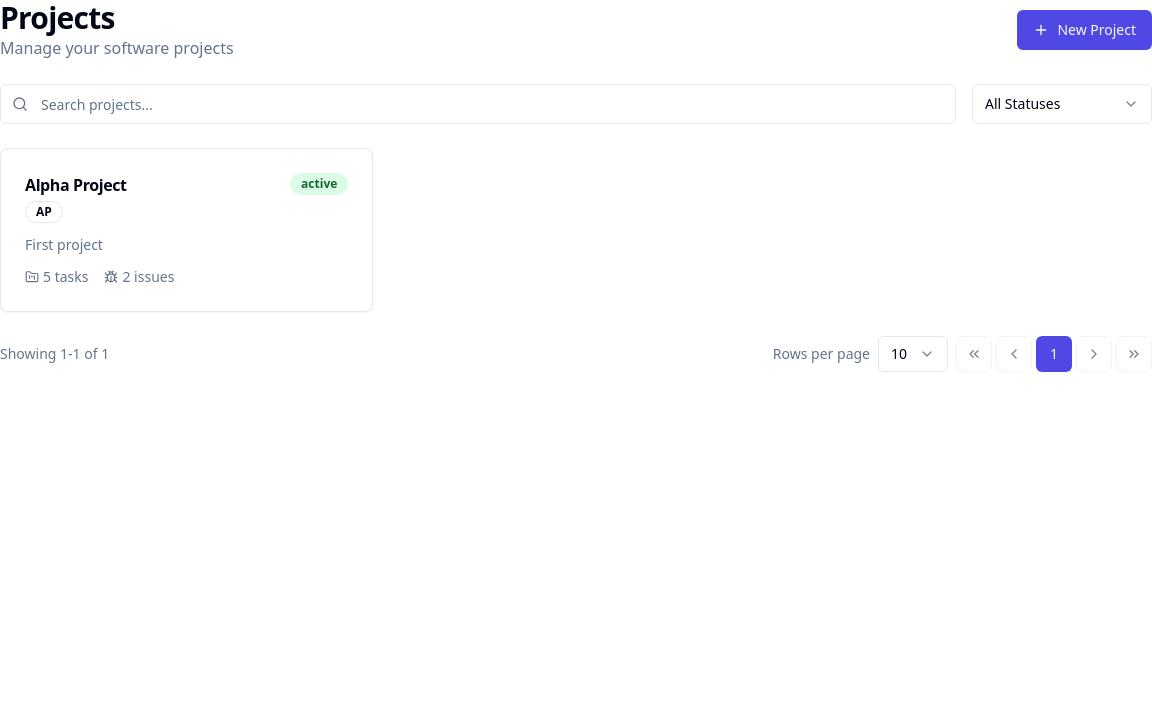
Test: ProjectsPage › should close dialog when Cancel is clicked
The image size is (1152, 720).
Expected: the heading "Alpha Project" is shown, left=25, top=173, right=127, bottom=197
What coordinates should you click on to do the following:
click the button "New Project"
I would click on:
 (1085, 30)
Its box is left=1017, top=10, right=1151, bottom=50.
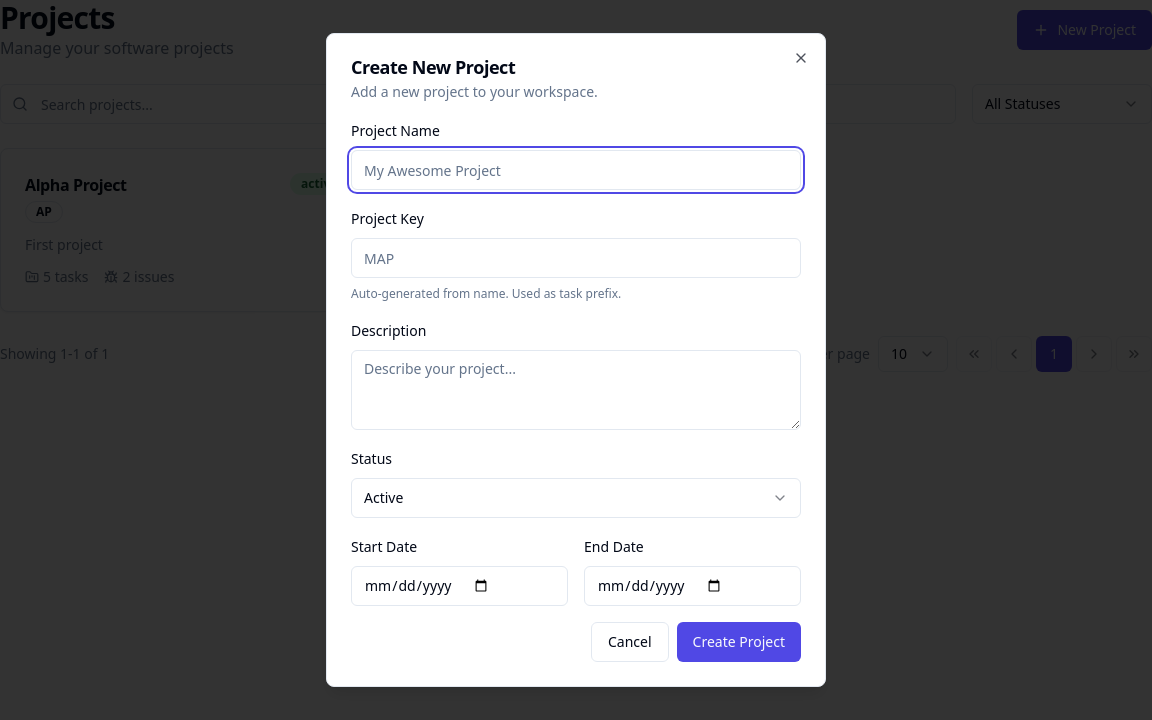
Expected: the heading "Create New Project" is shown, left=351, top=55, right=515, bottom=79
What coordinates should you click on to do the following:
click the button "Cancel"
I would click on:
 (630, 642)
Its box is left=591, top=622, right=669, bottom=662.
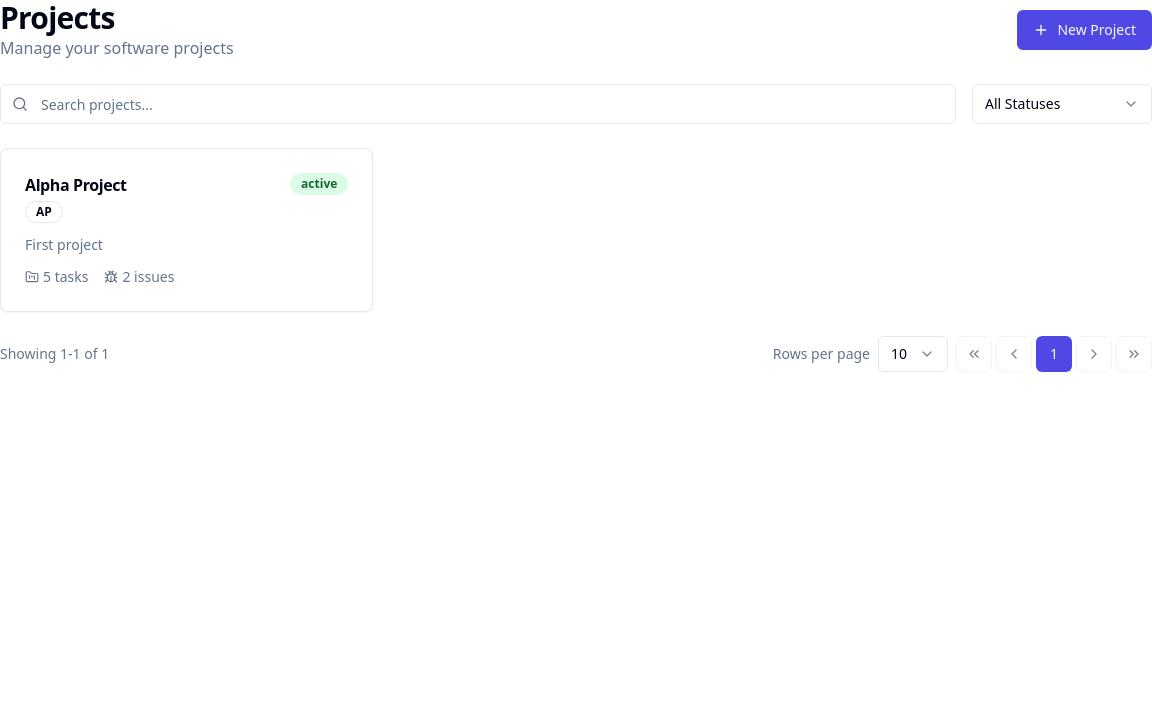
Expected: the heading "Create New Project" is gone
